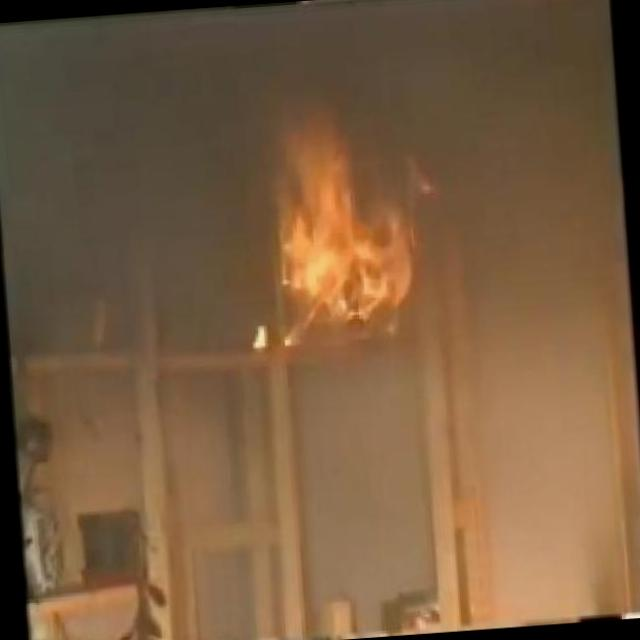fire: (236, 114, 442, 349)
